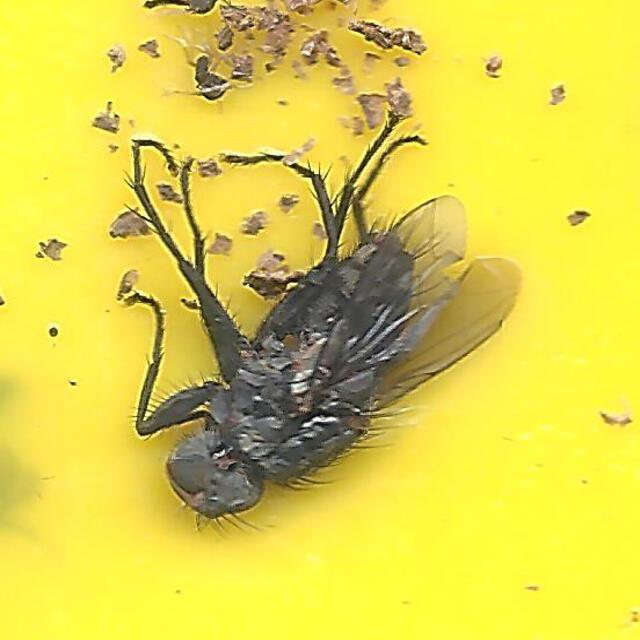Brachycera: (116, 113, 524, 527)
